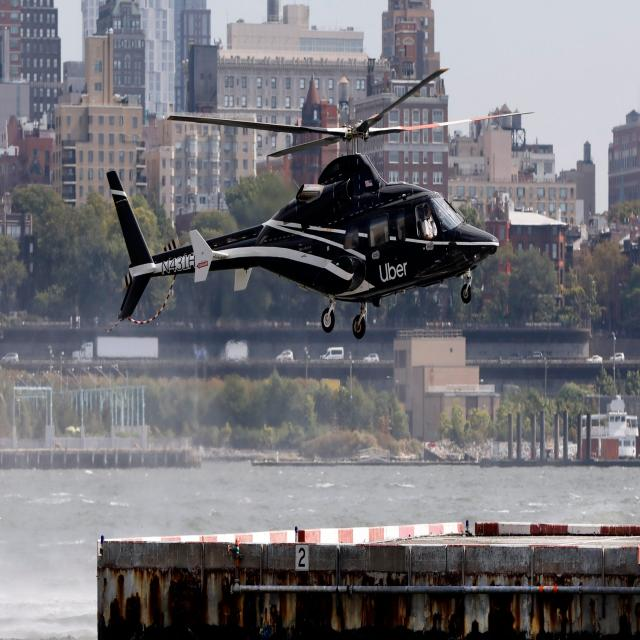helicopter: (103, 57, 521, 346)
